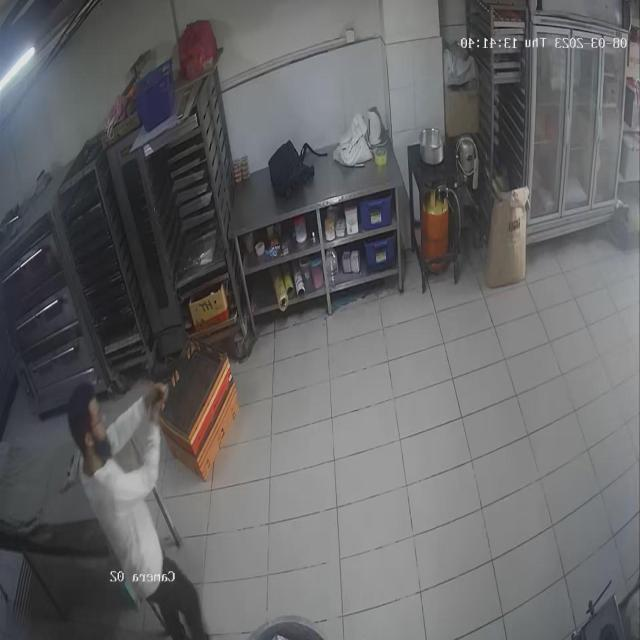Gun: (148, 368, 194, 408)
